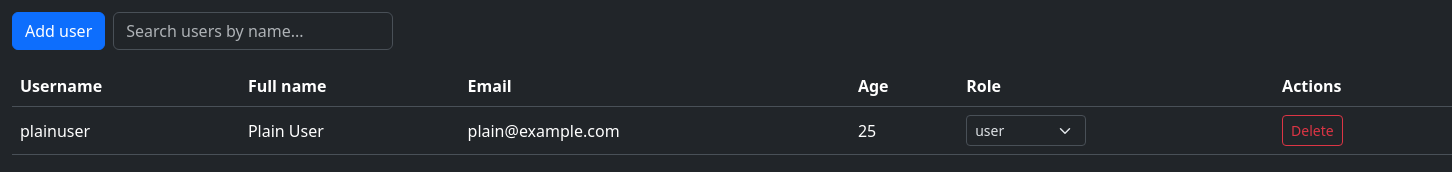
Test case: shows an empty state when no user matches the search
Expected: the text "plainuser" is shown, [12, 106, 240, 154]
Type "nonexistent" into the search field with placeholder "Search users by name..." at (253, 31), box [113, 12, 393, 50]
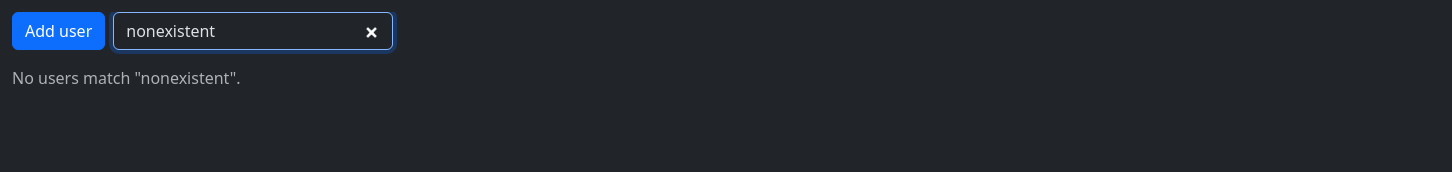
Result: the text "plainuser" is gone
Result: the text "No users match \"nonexistent\"." is shown at [12, 67, 240, 89]
